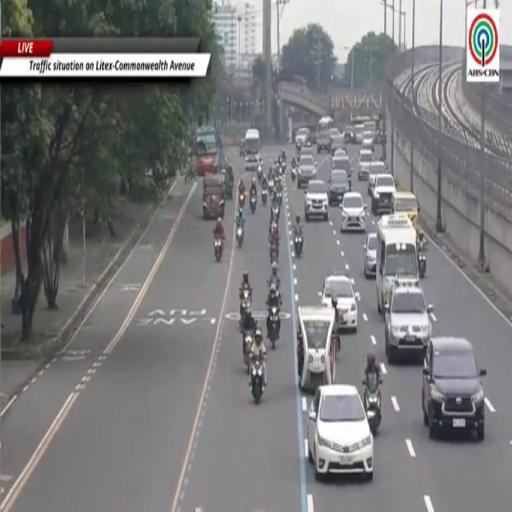bus: (376, 215, 417, 314), (195, 125, 218, 175), (245, 128, 260, 170), (318, 117, 335, 133)
car: (422, 338, 486, 441), (308, 384, 373, 481), (385, 278, 433, 363), (320, 274, 357, 331), (304, 179, 329, 222), (340, 191, 366, 232), (372, 174, 395, 215), (328, 170, 351, 205), (368, 162, 387, 195), (297, 154, 316, 187), (364, 233, 377, 278), (358, 150, 374, 181), (331, 155, 351, 177), (331, 135, 345, 155), (317, 132, 330, 153), (295, 127, 309, 145), (362, 132, 374, 152), (343, 127, 355, 143), (354, 125, 363, 143), (301, 146, 314, 157), (333, 149, 347, 158), (329, 127, 339, 137)
motorcycle: (297, 309, 335, 392), (363, 378, 381, 435), (251, 358, 264, 404), (268, 307, 279, 349), (240, 290, 251, 331), (243, 331, 253, 372), (214, 238, 223, 262), (418, 251, 426, 278), (294, 235, 303, 258), (236, 226, 244, 247), (267, 276, 279, 290), (270, 245, 278, 264), (272, 204, 279, 222), (250, 192, 256, 213), (257, 165, 263, 182), (239, 192, 245, 207), (262, 189, 267, 205), (268, 179, 275, 190), (277, 190, 282, 204), (291, 167, 296, 181), (281, 162, 286, 174), (296, 143, 301, 153)
tricycle: (225, 166, 233, 200)
